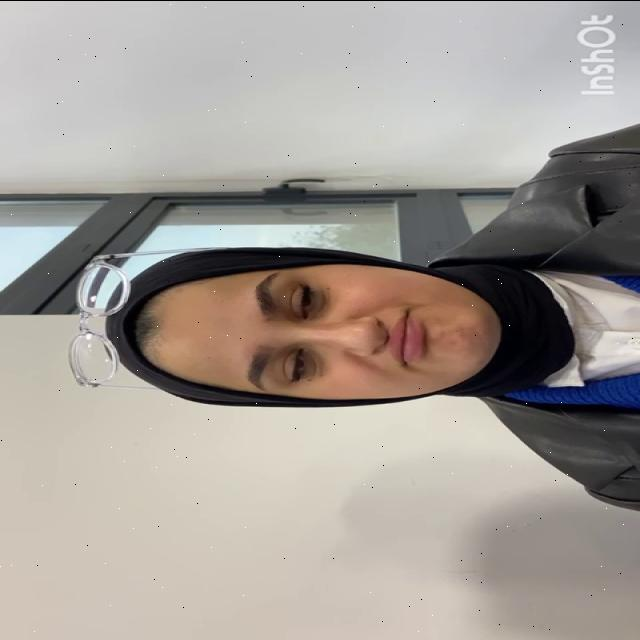natural: (145, 252, 505, 408)
